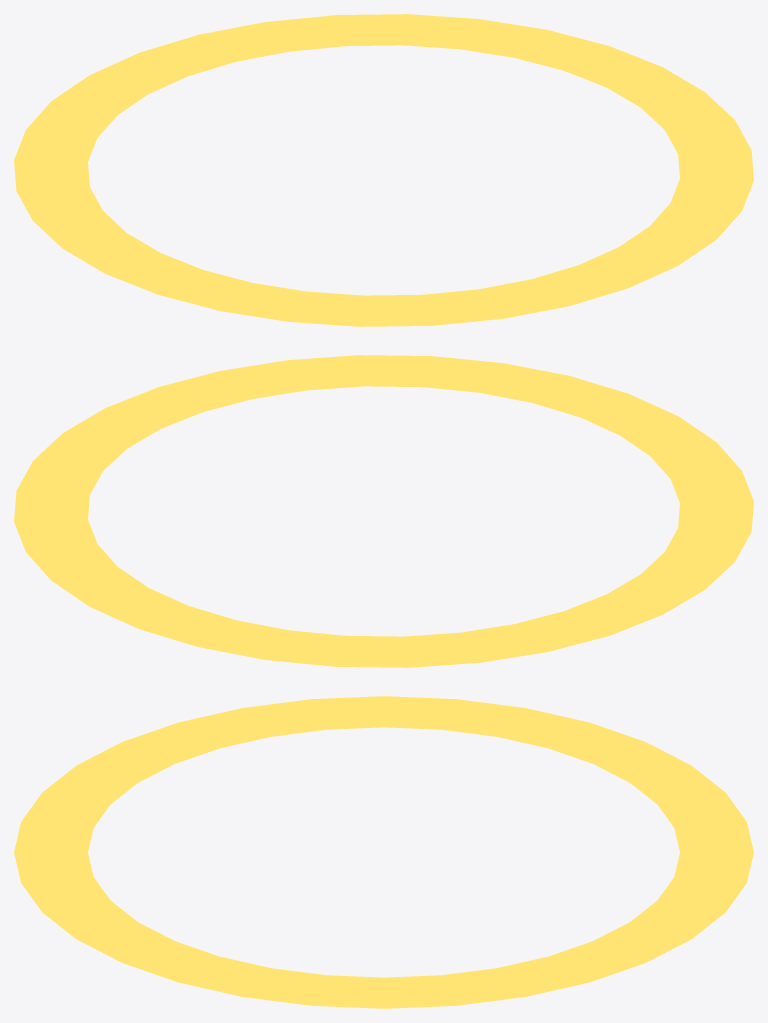
The model's file is resonance_ring.glb.
The picture shows the model from 3 angles, top to bottom: view 1: azimuth 30°, elevation 25°; view 2: azimuth 150°, elevation 25°; view 3: azimuth 270°, elevation 25°; orthographic projection.
Visible parts, largest first — view 1: effect; view 2: effect; view 3: effect.
Part boxes in pixels (left/top/right/bottom): effect: left=14, top=14, right=753, bottom=326; effect: left=14, top=355, right=753, bottom=667; effect: left=14, top=696, right=753, bottom=1008.
Size of the model in its own units: 2 by 0 by 2.
